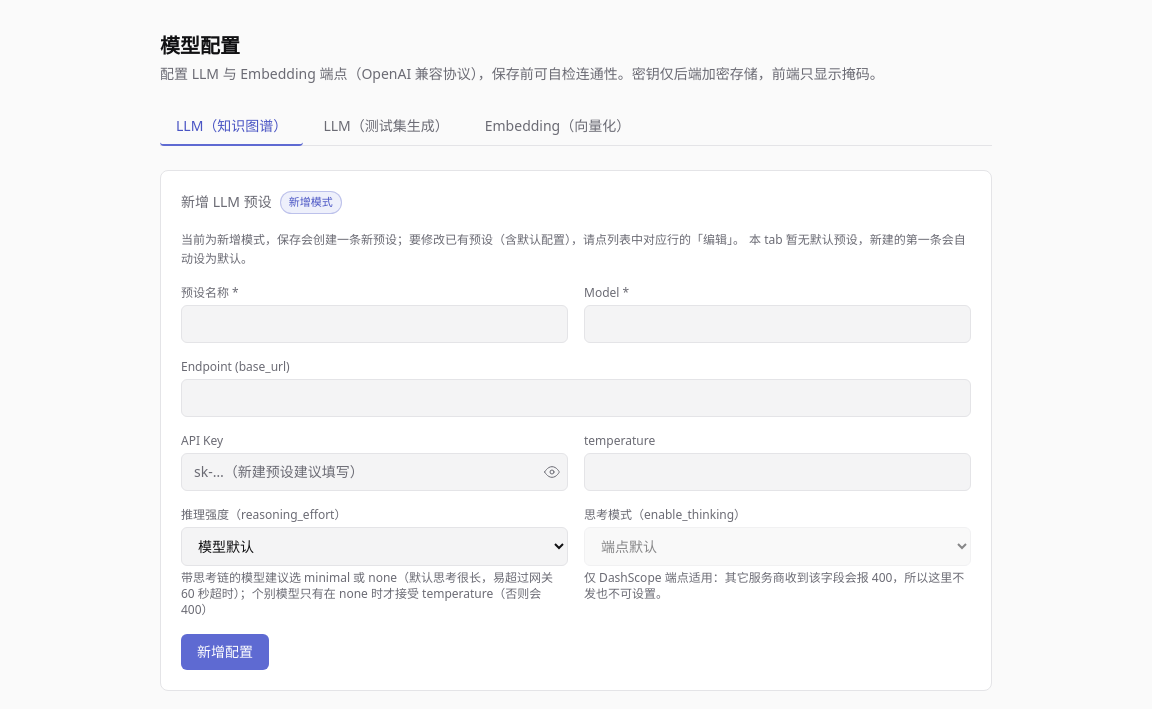
Test: ConfigPage › 新建预设成功后提交 payload 并显示落盘提示
Type "新预设" into the field named "预设名称". click: point(374, 324)
box: left=181, top=304, right=568, bottom=342
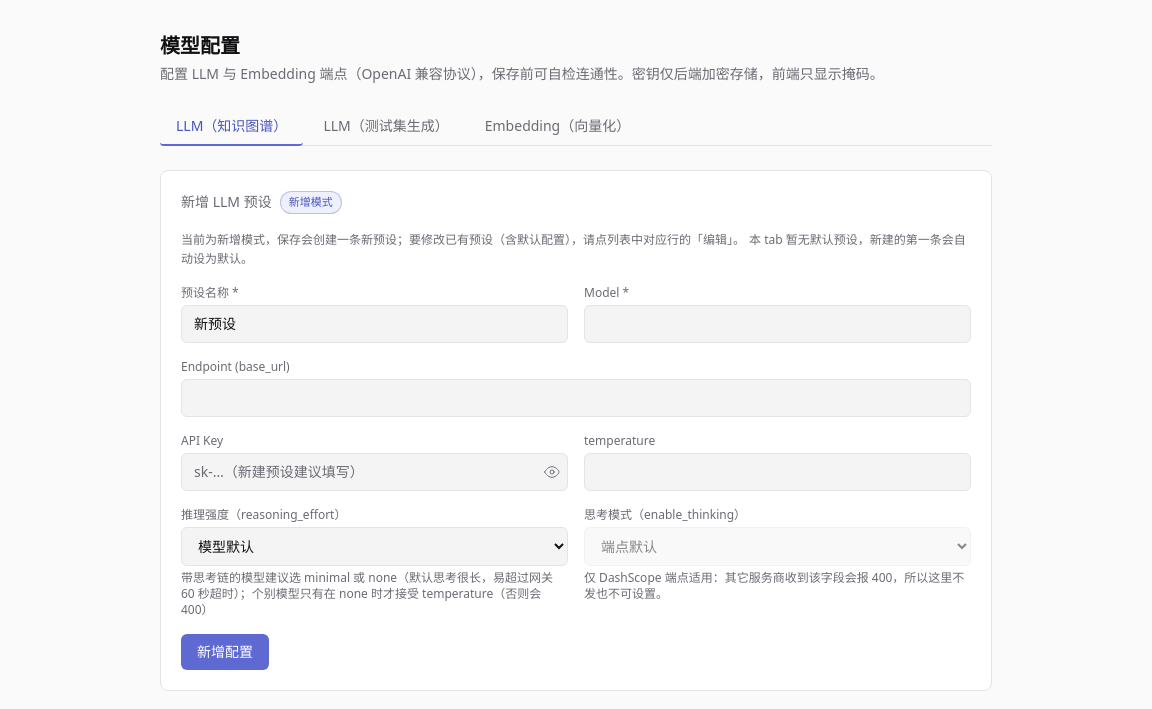
Type "qwen-max" into the field named "Model". click: point(778, 324)
box: left=584, top=304, right=971, bottom=342
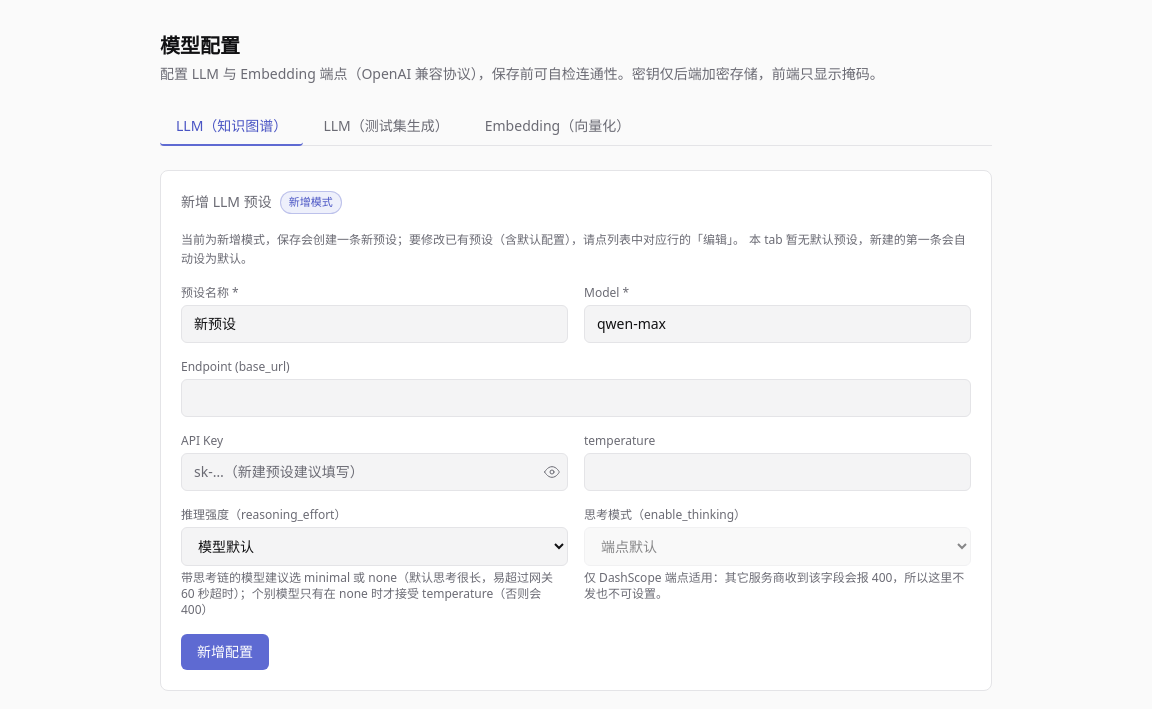
Click the button "新增配置". click: point(225, 652)
box: left=181, top=634, right=269, bottom=670
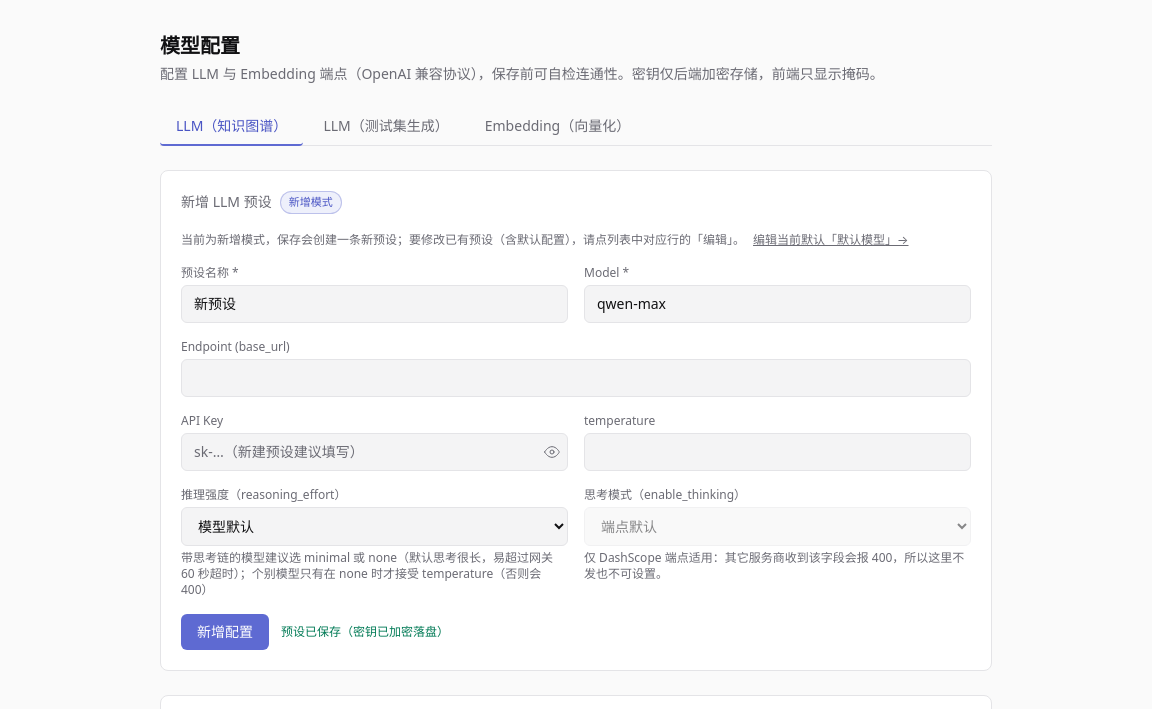
Check: the text "预设已保存（密钥已加密落盘）" is shown, box left=281, top=624, right=449, bottom=640
